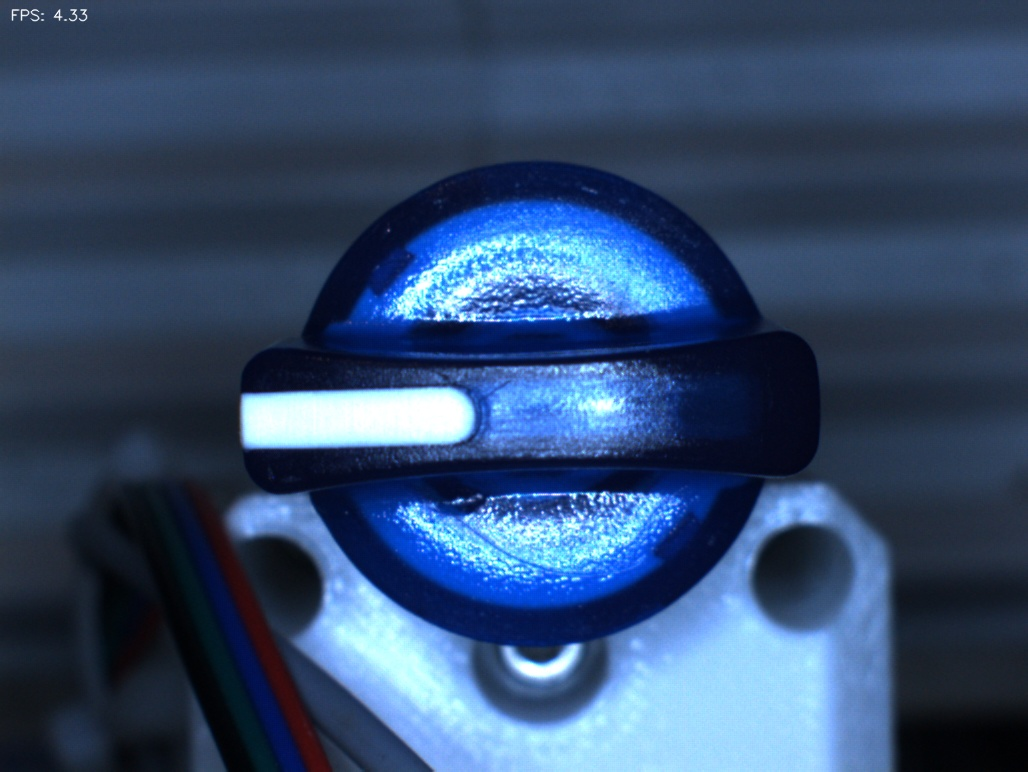Choc: (413, 461, 496, 544)
